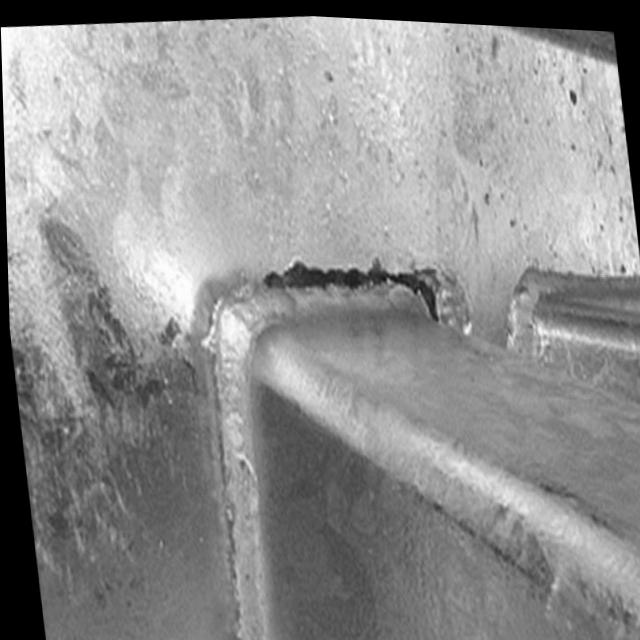Crack: (249, 237, 449, 339)
